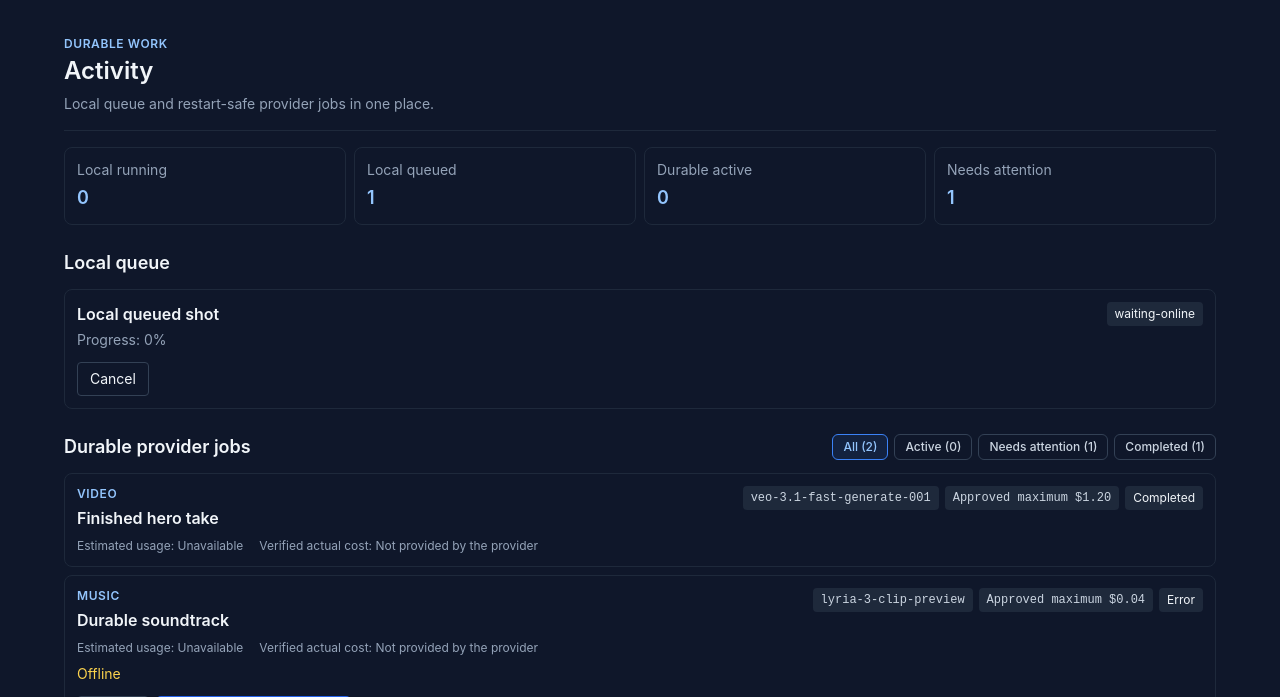
Test: ActivityPage › displays model and approved cost badges and filters durable jobs by status
This screenshot has width=1280, height=697.
expect the text "lyria-3-clip-preview" is shown: met, box [813,588,973,612]
expect the text "Approved maximum $0.04" is shown: met, box [979,588,1153,612]
Step 1. Click the button "Completed (1)" → (1165, 447), box [1114,434,1216,460]
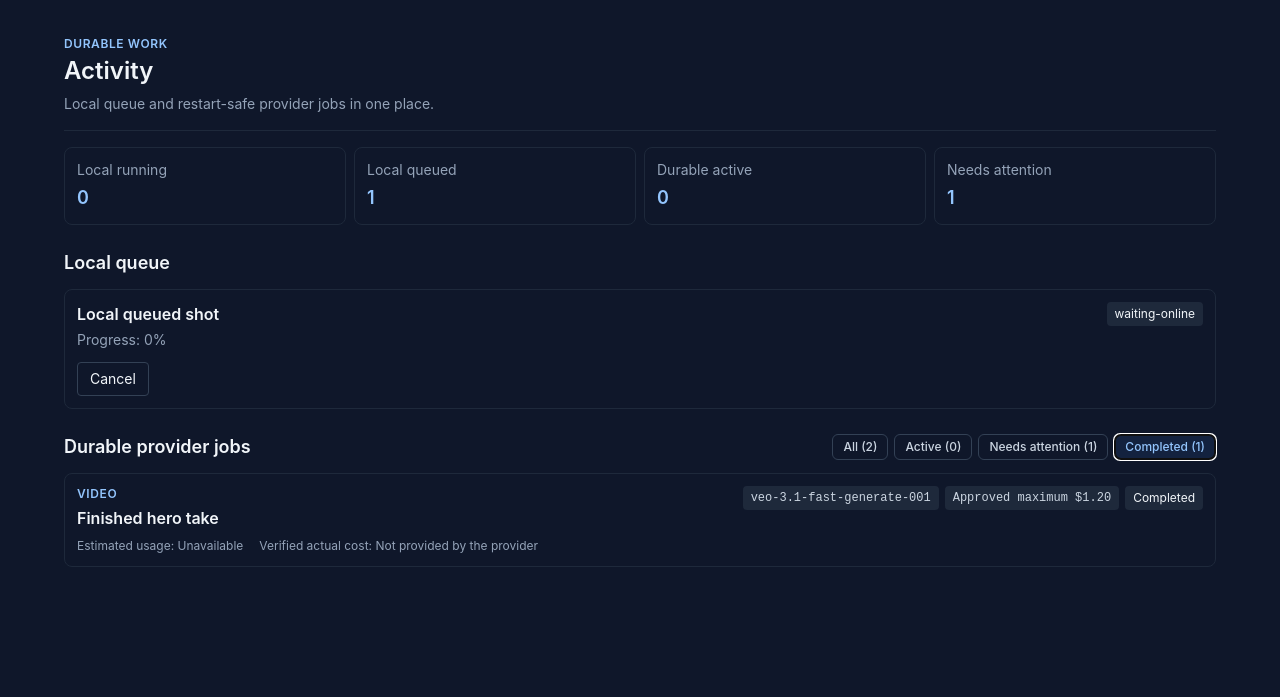
expect the heading "Finished hero take" is shown: met, box [77,506,219,530]
expect the heading "Durable soundtrack" is gone: met
Step 2. Click the button "Needs attention (1)" → (1043, 447), box [978,434,1108,460]
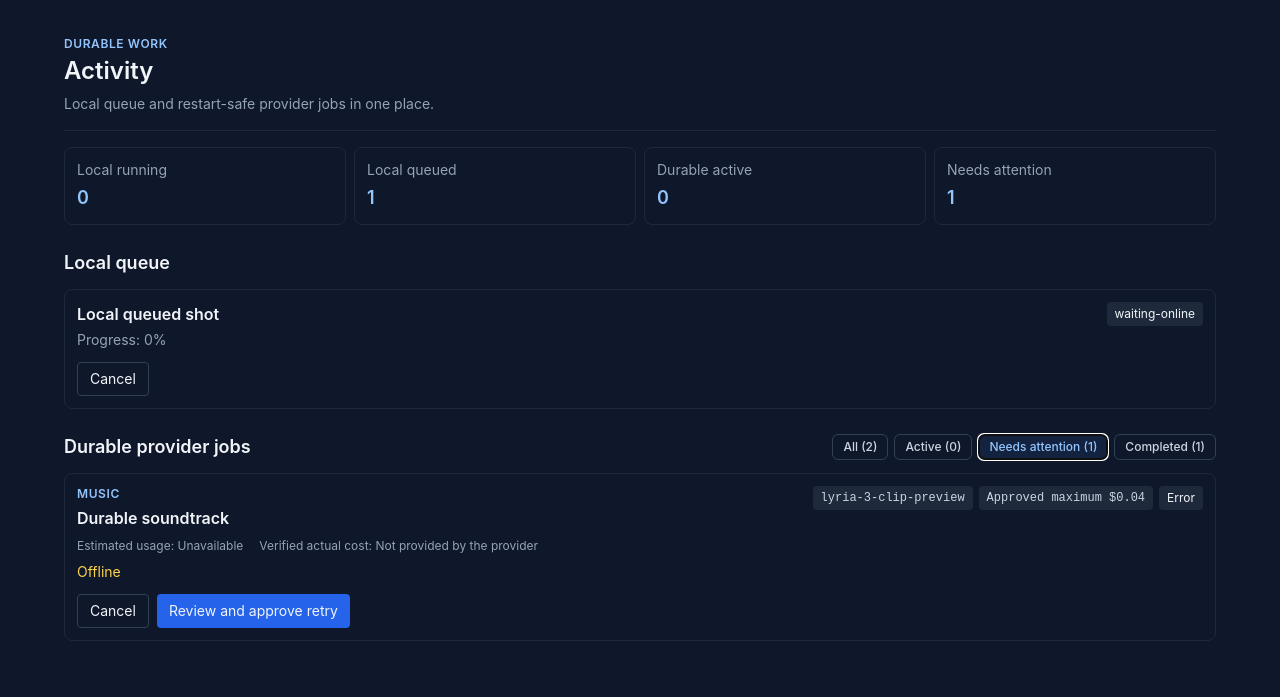
expect the heading "Durable soundtrack" is shown: met, box [77,506,229,530]
expect the heading "Finished hero take" is gone: met
